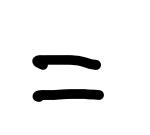eqv: (32, 54, 103, 101)
